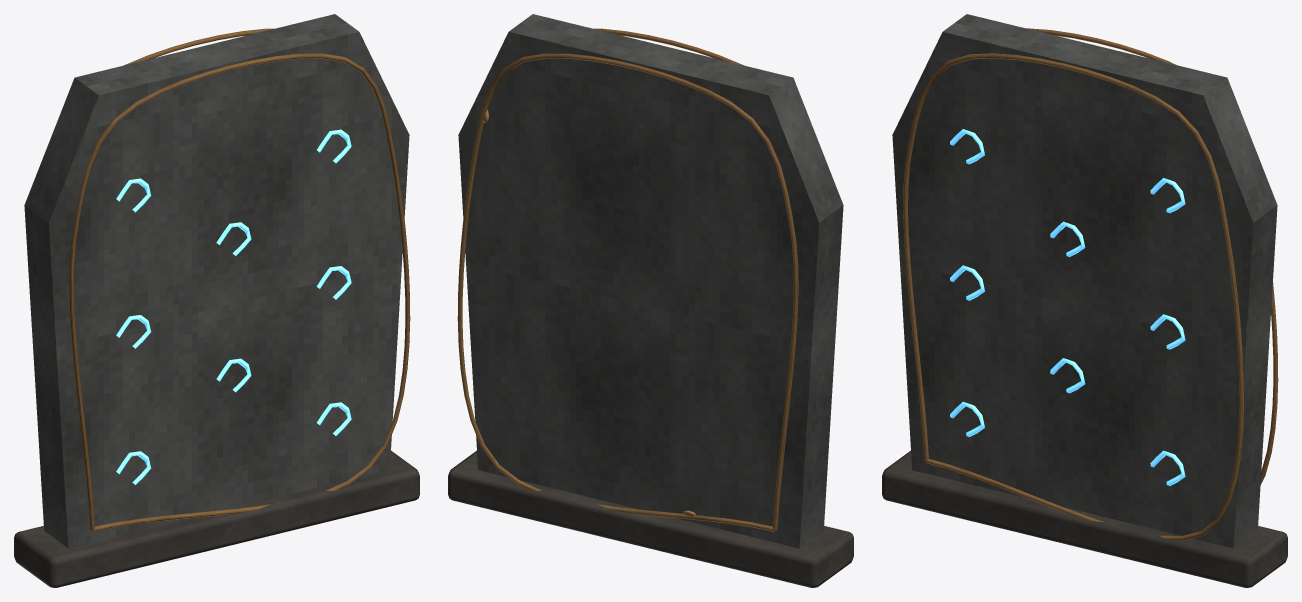
File: rune-tablet.lod2.glb
3 views of the same model, side by side, from view 1: azimuth 30°, elevation 25°; view 2: azimuth 150°, elevation 25°; view 3: azimuth 330°, elevation 25° (orthographic).
Parts seen in each view (by area): view 1: stone / dressed slate, iron / hammer-scaled wrought iron, bronze / cast bronze with patina, energy / emissive field channel; view 2: stone / dressed slate, iron / hammer-scaled wrought iron, bronze / cast bronze with patina; view 3: stone / dressed slate, iron / hammer-scaled wrought iron, bronze / cast bronze with patina, energy / emissive field channel.
Boxes of the visible parts, left/top/right/bottom form: stone / dressed slate: left=24, top=14, right=409, bottom=548; iron / hammer-scaled wrought iron: left=14, top=450, right=419, bottom=587; bronze / cast bronze with patina: left=69, top=28, right=410, bottom=531; energy / emissive field channel: left=116, top=129, right=351, bottom=484; stone / dressed slate: left=458, top=14, right=843, bottom=548; iron / hammer-scaled wrought iron: left=448, top=450, right=853, bottom=587; bronze / cast bronze with patina: left=457, top=28, right=798, bottom=531; stone / dressed slate: left=892, top=14, right=1277, bottom=548; iron / hammer-scaled wrought iron: left=882, top=450, right=1287, bottom=587; bronze / cast bronze with patina: left=903, top=28, right=1278, bottom=541; energy / emissive field channel: left=950, top=129, right=1185, bottom=485.
Bounding box in the file's own units: 0.37 × 0.4577 × 0.07.
5 materials, 3 textured.
